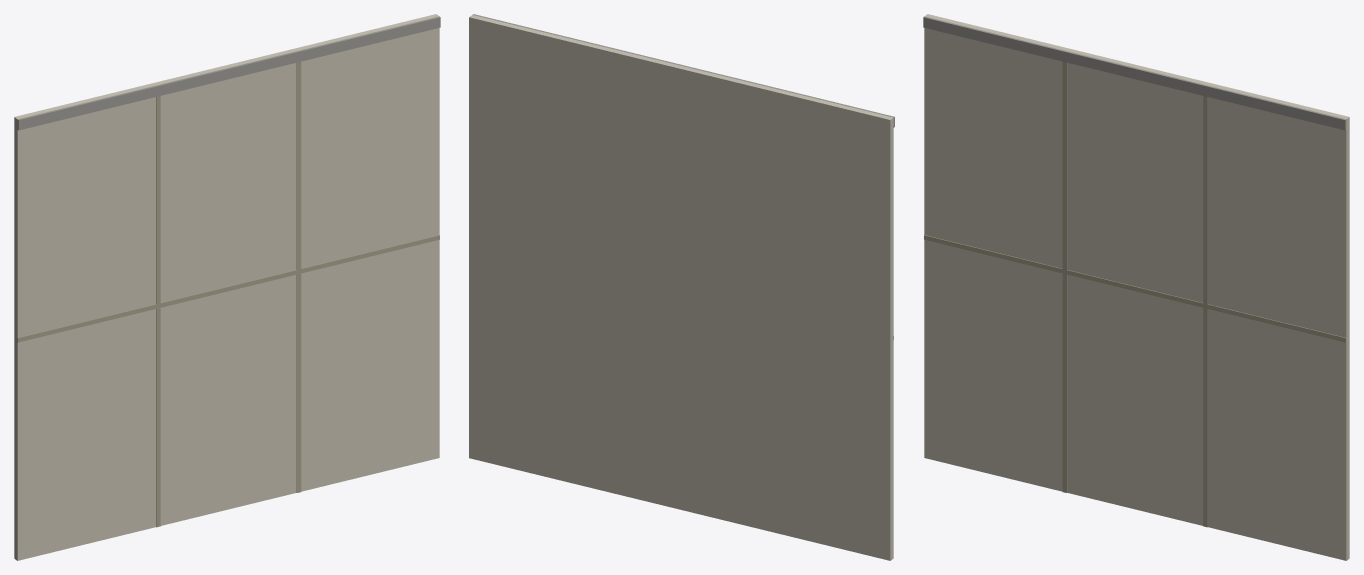
The model's file is tile-splashback.glb.
3 views of the same model, side by side, from view 1: azimuth 30°, elevation 25°; view 2: azimuth 150°, elevation 25°; view 3: azimuth 330°, elevation 25° (orthographic).
Visible parts, largest first — view 1: enamel, plastic-light, brushed; view 2: enamel, brushed; view 3: enamel, plastic-light, brushed.
Boxes of the visible parts, x1=… form: enamel: x1=14, y1=14, x2=439, y2=560; plastic-light: x1=17, y1=50, x2=439, y2=527; brushed: x1=17, y1=16, x2=440, y2=130; enamel: x1=469, y1=15, x2=893, y2=560; brushed: x1=472, y1=14, x2=894, y2=127; enamel: x1=924, y1=14, x2=1349, y2=560; plastic-light: x1=924, y1=50, x2=1346, y2=527; brushed: x1=923, y1=16, x2=1346, y2=130.
Bounding box in the file's own units: 0.6 × 0.6 × 0.011.
